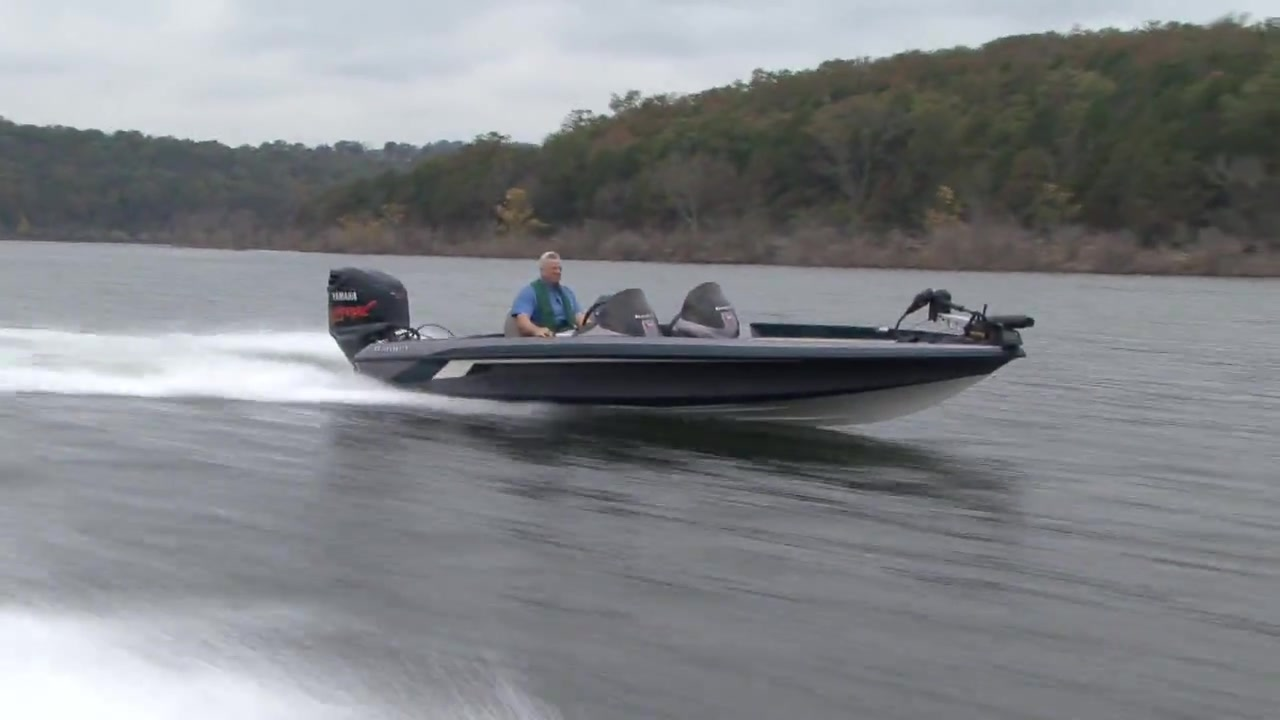boat: (320, 256, 1038, 433)
